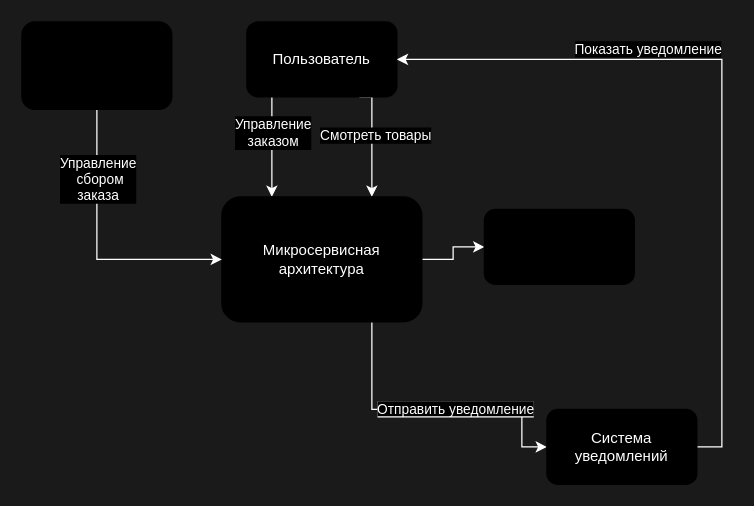
Some shapes in this 754 by 506 pixel diagram are drawn without their labels. Here are the shapes that lost their labels. From the top down, the centre of each, then its label:
At (x=96, y=65): "Склад".
At (x=558, y=246): "Сервис оплаты".
